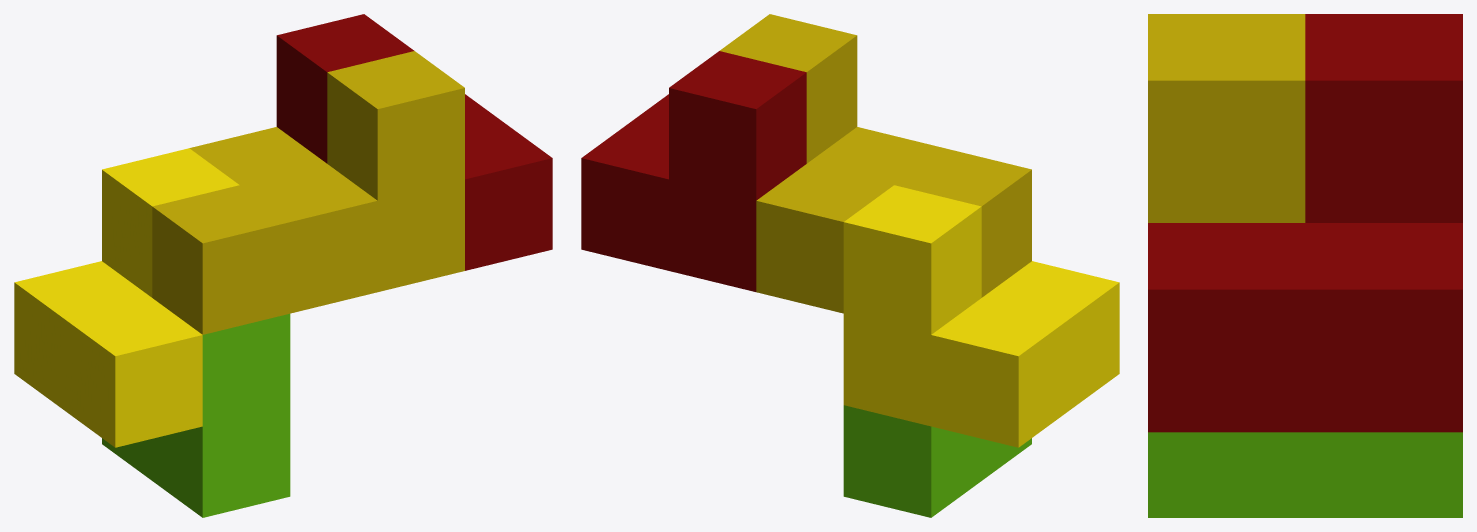
3 renders of one model, left to right at view 1: azimuth 30°, elevation 25°; view 2: azimuth 150°, elevation 25°; view 3: azimuth 270°, elevation 25°, orthographic. The views are drawn at different scales.
Visible parts, largest first — view 1: mergedBlocks(Clone); view 2: mergedBlocks(Clone); view 3: mergedBlocks(Clone).
Boxes of the visible parts, x1,y1,x2,y2 form: mergedBlocks(Clone): [14, 14, 552, 517]; mergedBlocks(Clone): [581, 14, 1119, 517]; mergedBlocks(Clone): [1148, 14, 1462, 517].
Bounding box in the file's own units: 5 × 4 × 2.
Materials: 4 (4 with a texture image).
